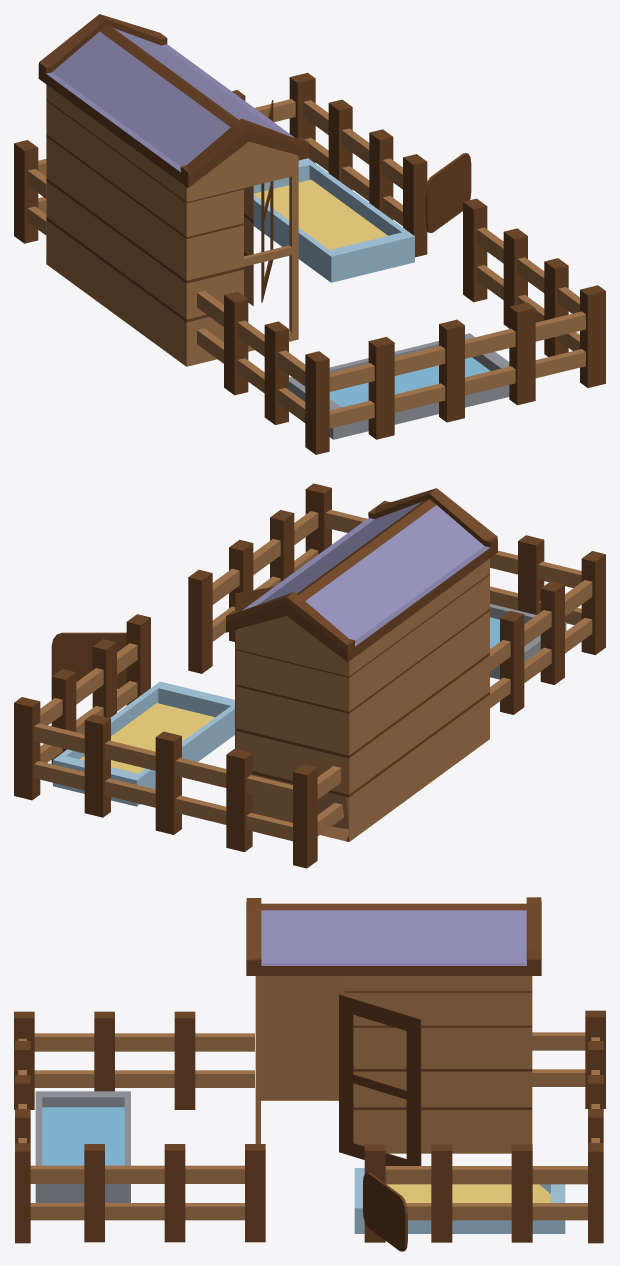
Rendered from Kumes_Guncel.fbx.
3 renders of one model, top to bottom at view 1: azimuth 30°, elevation 25°; view 2: azimuth 150°, elevation 25°; view 3: azimuth 270°, elevation 25°, orthographic.
Parts seen in each view (by area): view 1: Cube.006; view 2: Cube.006; view 3: Cube.006.
Part boxes in pixels (bbox=[...]): Cube.006: bbox=[14, 14, 605, 454]; Cube.006: bbox=[14, 483, 605, 868]; Cube.006: bbox=[14, 897, 605, 1251].
Size of the model in its own units: 820 by 503 by 1171.
